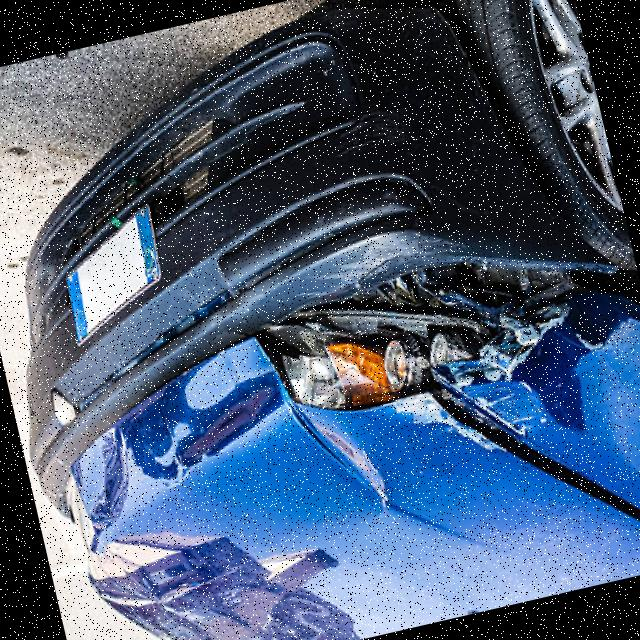Dent: (49, 318, 300, 533)
Head Light: (264, 231, 556, 426)
